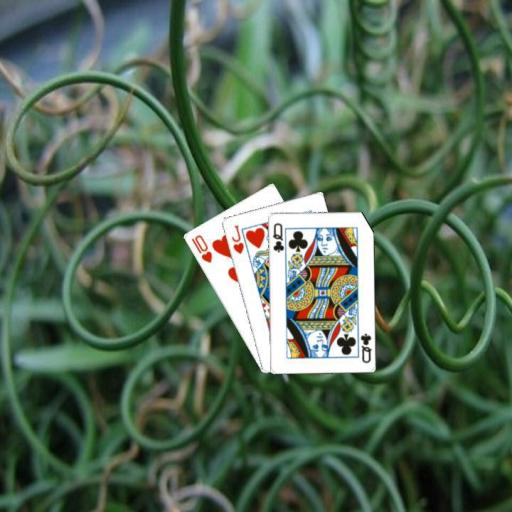10H: (188, 232, 213, 264)
JH: (229, 222, 246, 255)
QC: (357, 330, 373, 364), (270, 220, 285, 254)
